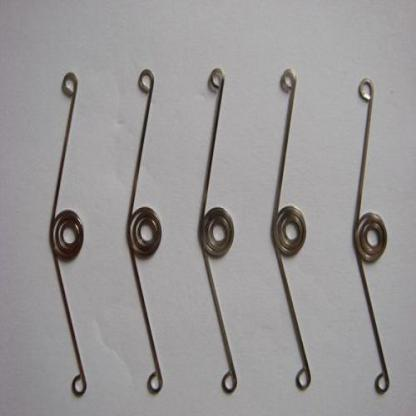FOD: (47, 68, 93, 402), (196, 63, 240, 398), (271, 66, 315, 392), (350, 75, 393, 397), (126, 66, 167, 400)
